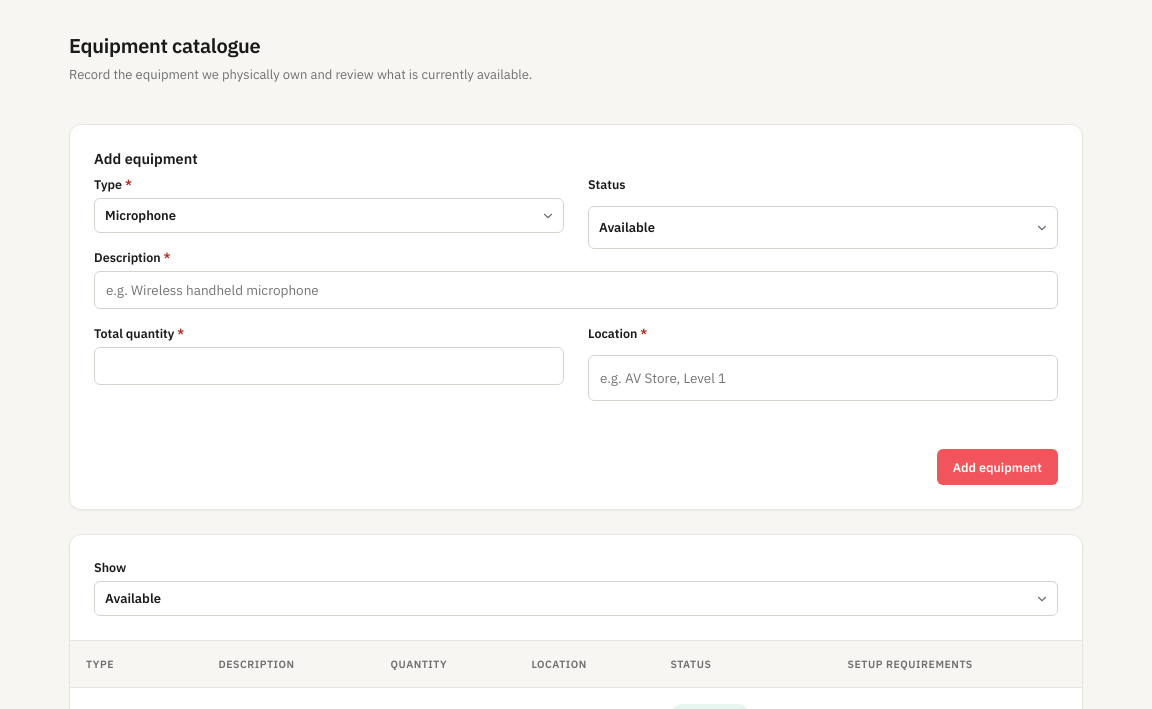
Scenario: submits a new record, confirms it and reloads the list
The image size is (1152, 709).
Type " Laptop A " into the field labelled "Description *" at x=576, y=290, box [94,271,1058,309]
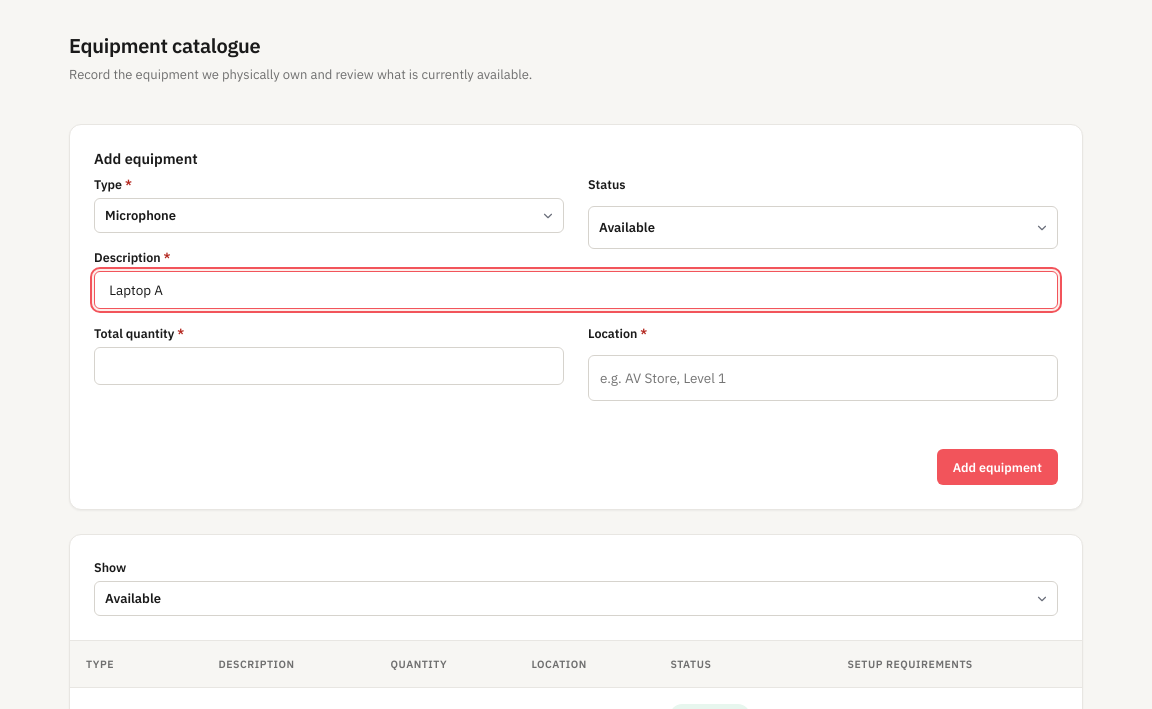
Type "3" into the number field labelled "Total quantity *" at x=329, y=366, box [94,347,564,385]
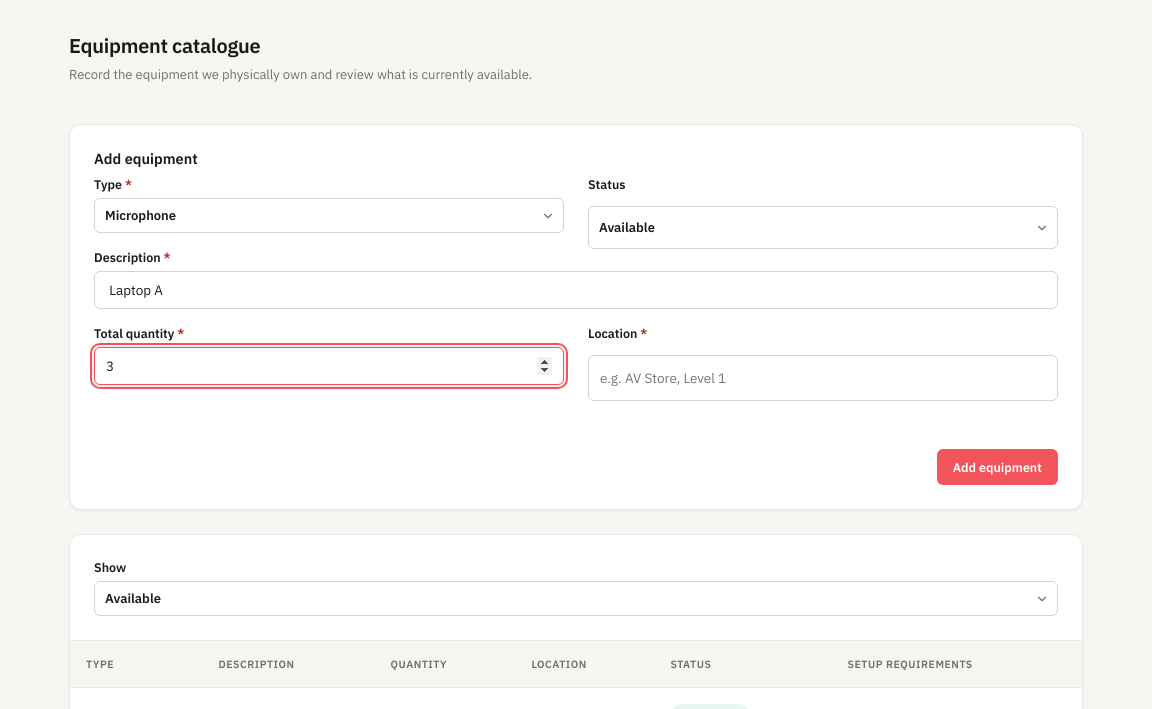
Type " Store " into the field labelled "Location *" at x=823, y=378, box [588,355,1058,401]
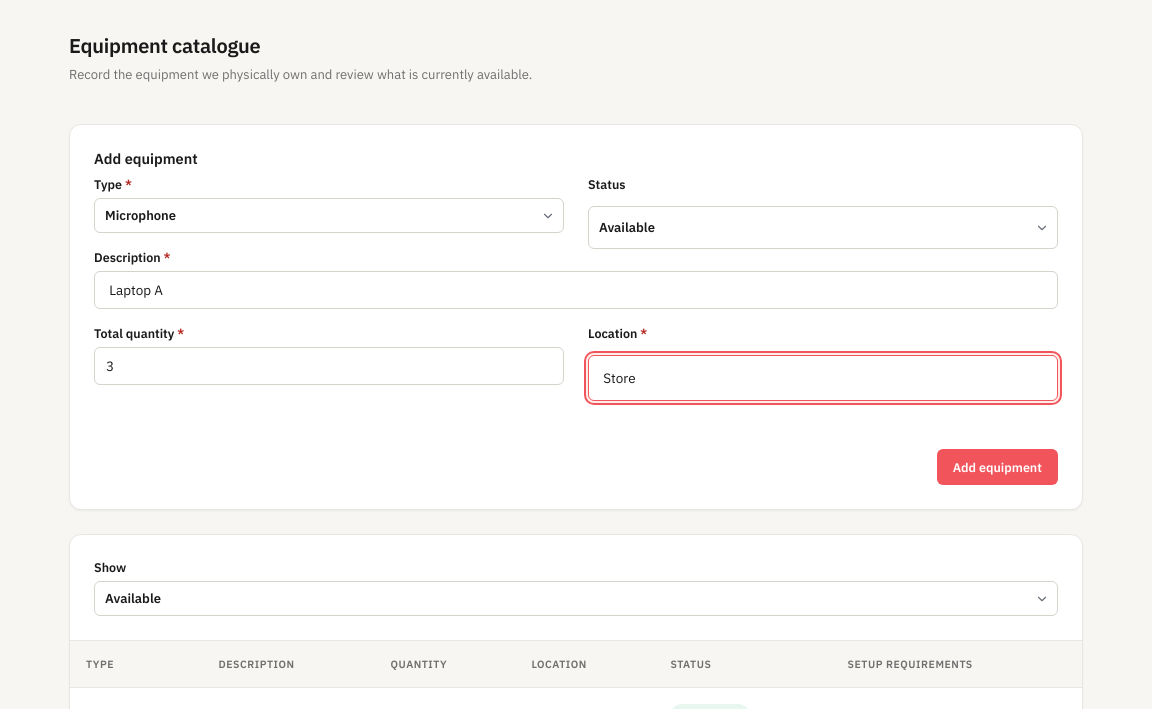
Click the button "Add equipment" at x=997, y=467, box [937,449,1058,485]
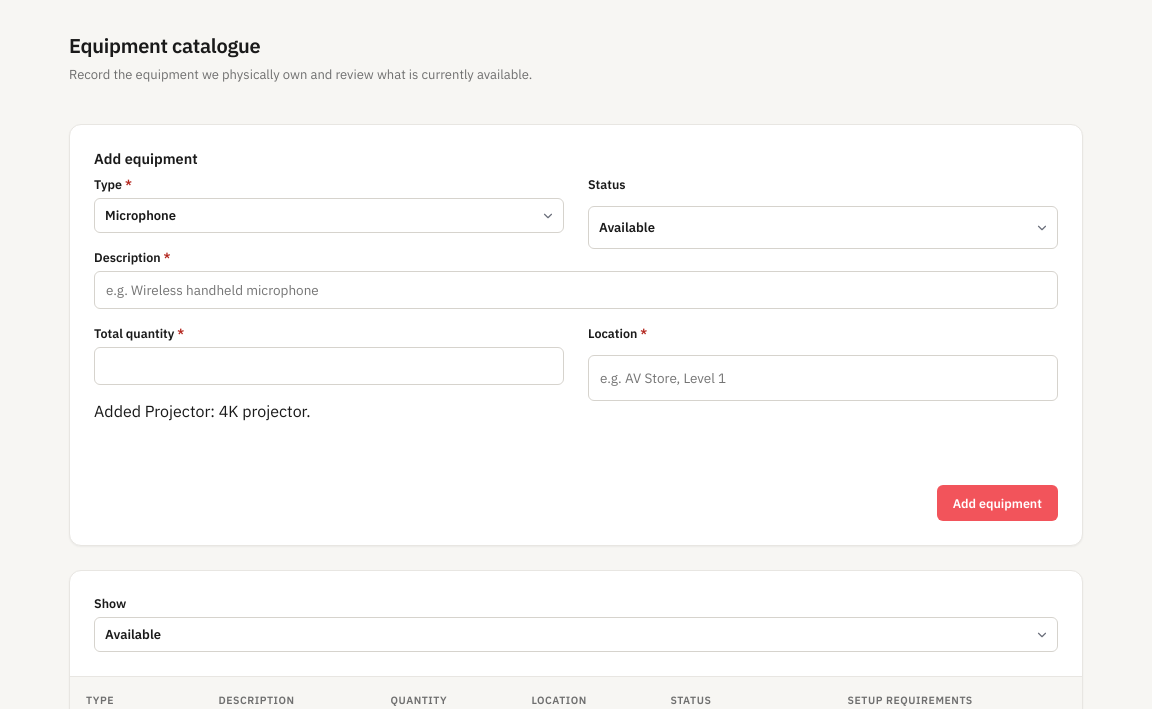
expect the text "Added Projector: 4K projector." is shown: met, box [94,401,311,421]
